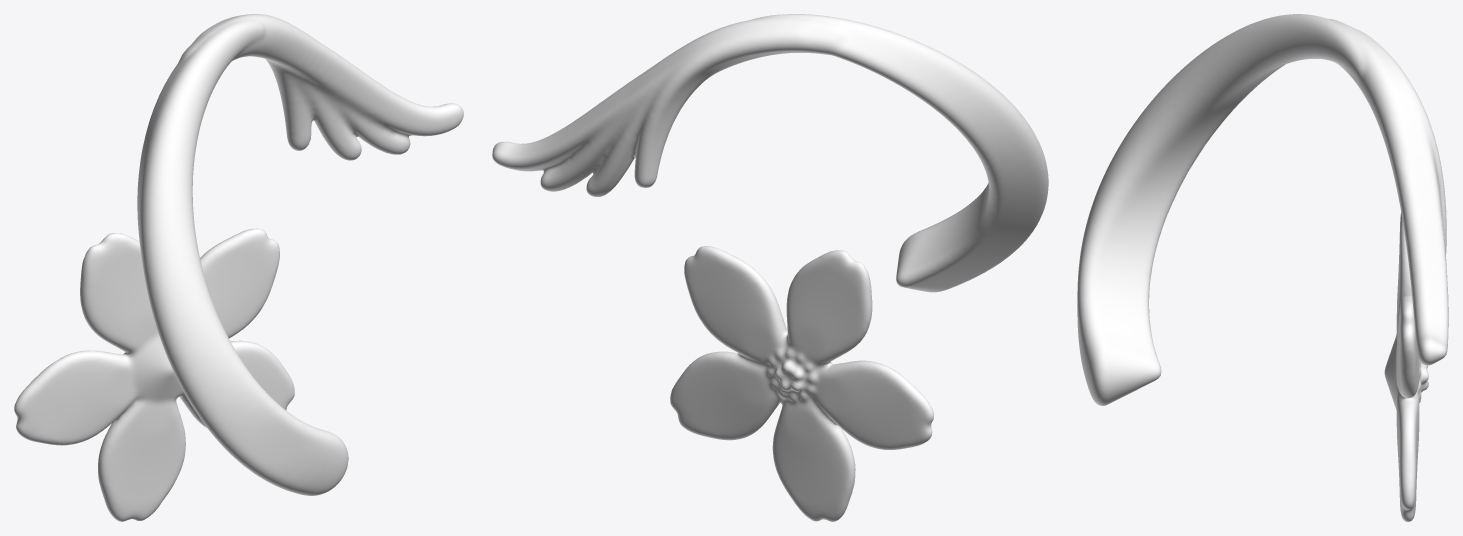
The model's file is right.glb.
The picture shows the model from 3 angles, left to right: view 1: azimuth 30°, elevation 25°; view 2: azimuth 150°, elevation 25°; view 3: azimuth 270°, elevation 25°; orthographic projection. The views are drawn at different scales.
Parts seen in each view (by area): view 1: Right Side; view 2: Right Side; view 3: Right Side.
Part boxes in pixels (x1,y1,x2,y2): Right Side: [14, 14, 463, 521]; Right Side: [492, 14, 1048, 521]; Right Side: [1077, 14, 1448, 521].
Size of the model in its own units: 104 by 109 by 71.02.
1 material, 1 textured.
